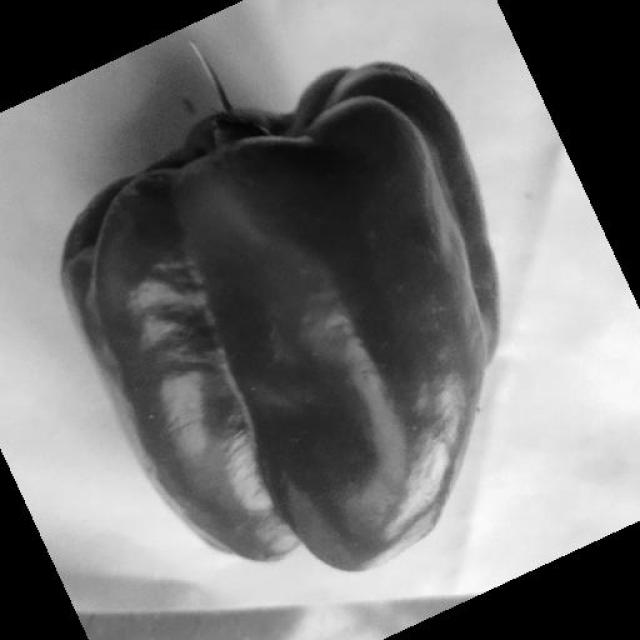Stale_Capsicum: (55, 155, 562, 564)
